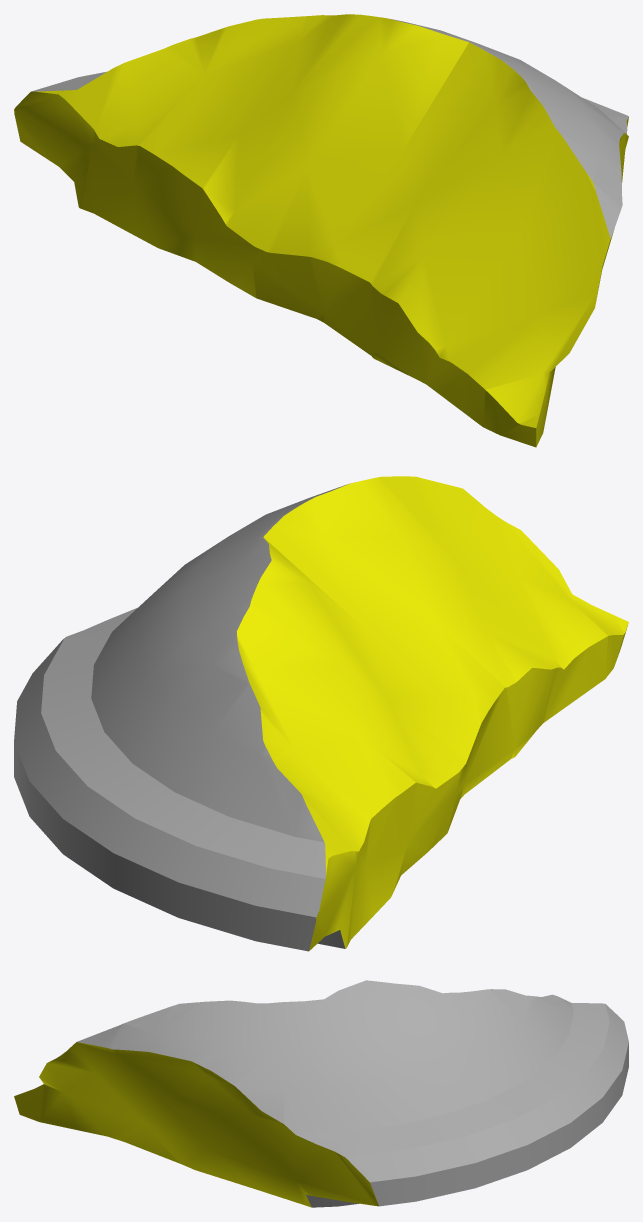
File: target_shatter02.fbx
The picture shows the model from 3 angles, top to bottom: view 1: azimuth 30°, elevation 25°; view 2: azimuth 150°, elevation 25°; view 3: azimuth 270°, elevation 25°; orthographic projection. The views are drawn at different scales.
Visible parts, largest first — view 1: target2_shatter02; view 2: target2_shatter02; view 3: target2_shatter02.
Boxes of the visible parts, x1,y1,x2,y2 form: target2_shatter02: (14, 14, 628, 447); target2_shatter02: (14, 476, 628, 951); target2_shatter02: (14, 980, 628, 1207).
Size of the model in its own units: 13.73 by 6.81 by 22.21.
